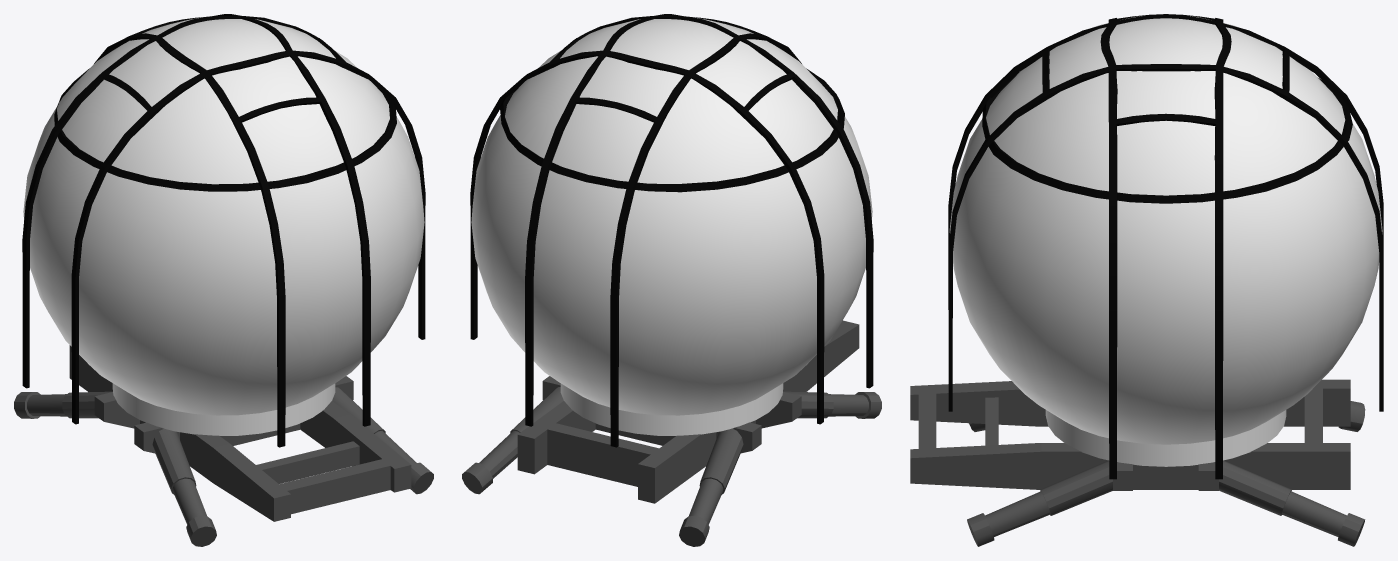
File: trailer1.obj
The picture shows the model from 3 angles, left to right: view 1: azimuth 30°, elevation 25°; view 2: azimuth 150°, elevation 25°; view 3: azimuth 270°, elevation 25°; orthographic projection. The views are drawn at different scales.
Visible parts, largest first — view 1: trailer1; view 2: trailer1; view 3: trailer1.
Part boxes in pixels (x1,y1,x2,y2): trailer1: (14,14,433,546); trailer1: (462,14,881,546); trailer1: (910,14,1383,546).
Bounding box in the file's own units: 1.64 × 1.88 × 1.78.
Materials: 1 (1 with a texture image).
